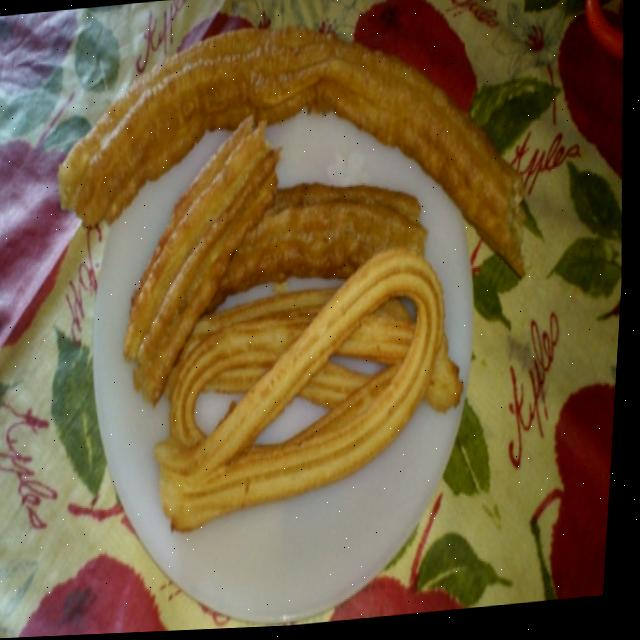炸货点心: (37, 0, 563, 527)
